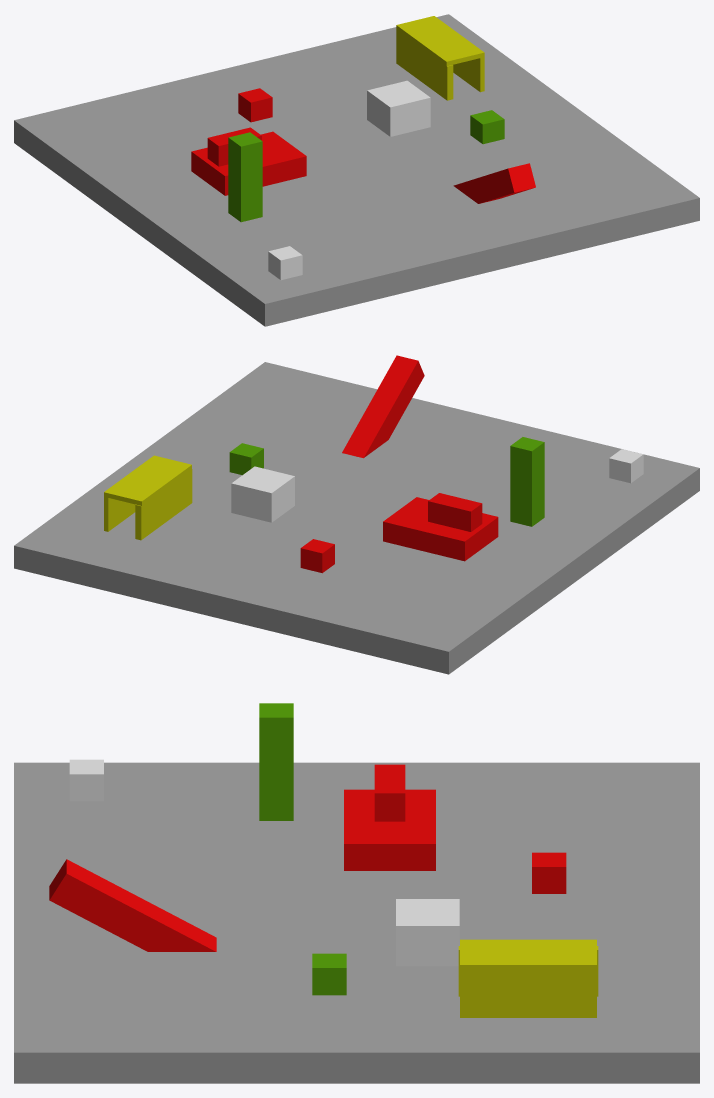
The picture shows the model from 3 angles, top to bottom: view 1: azimuth 30°, elevation 25°; view 2: azimuth 150°, elevation 25°; view 3: azimuth 270°, elevation 25°; orthographic projection. The views are drawn at different scales.
Visible parts, largest first — view 1: Cube, Cube.008, Cube.004, Cube.002, Cube.011, Cube.007, Cube.005, Cube.001, Cube.003, Cube.006, Cube.010; view 2: Cube, Cube.008, Cube.005, Cube.004, Cube.002, Cube.011, Cube.007, Cube.001, Cube.003, Cube.006, Cube.010; view 3: Cube, Cube.008, Cube.005, Cube.010, Cube.011, Cube.002, Cube.004, Cube.006, Cube.003, Cube.001.
Part boxes in pixels (bbox=[...]): Cube: bbox=[14, 14, 699, 326]; Cube.008: bbox=[191, 127, 306, 195]; Cube.004: bbox=[228, 132, 262, 222]; Cube.002: bbox=[367, 80, 430, 136]; Cube.011: bbox=[396, 16, 484, 66]; Cube.007: bbox=[396, 30, 453, 100]; Cube.005: bbox=[453, 163, 535, 203]; Cube.001: bbox=[238, 88, 272, 122]; Cube.003: bbox=[268, 246, 302, 280]; Cube.006: bbox=[470, 110, 504, 144]; Cube.010: bbox=[453, 57, 484, 92]; Cube: bbox=[14, 362, 699, 674]; Cube.008: bbox=[383, 493, 498, 561]; Cube.005: bbox=[342, 355, 424, 458]; Cube.004: bbox=[510, 437, 544, 526]; Cube.002: bbox=[231, 466, 294, 522]; Cube.011: bbox=[104, 455, 191, 505]; Cube.007: bbox=[135, 469, 192, 540]; Cube.001: bbox=[300, 539, 334, 573]; Cube.003: bbox=[609, 449, 643, 483]; Cube.006: bbox=[229, 443, 263, 475]; Cube.010: bbox=[104, 497, 135, 531]; Cube: bbox=[14, 762, 699, 1083]; Cube.008: bbox=[344, 764, 435, 870]; Cube.005: bbox=[49, 859, 216, 951]; Cube.010: bbox=[460, 971, 596, 1017]; Cube.011: bbox=[460, 939, 596, 971]; Cube.002: bbox=[396, 899, 459, 966]; Cube.004: bbox=[259, 703, 293, 820]; Cube.006: bbox=[312, 953, 346, 995]; Cube.003: bbox=[69, 759, 103, 801]; Cube.001: bbox=[532, 852, 566, 893].
Size of the model in its own units: 40 by 8.65 by 40.
